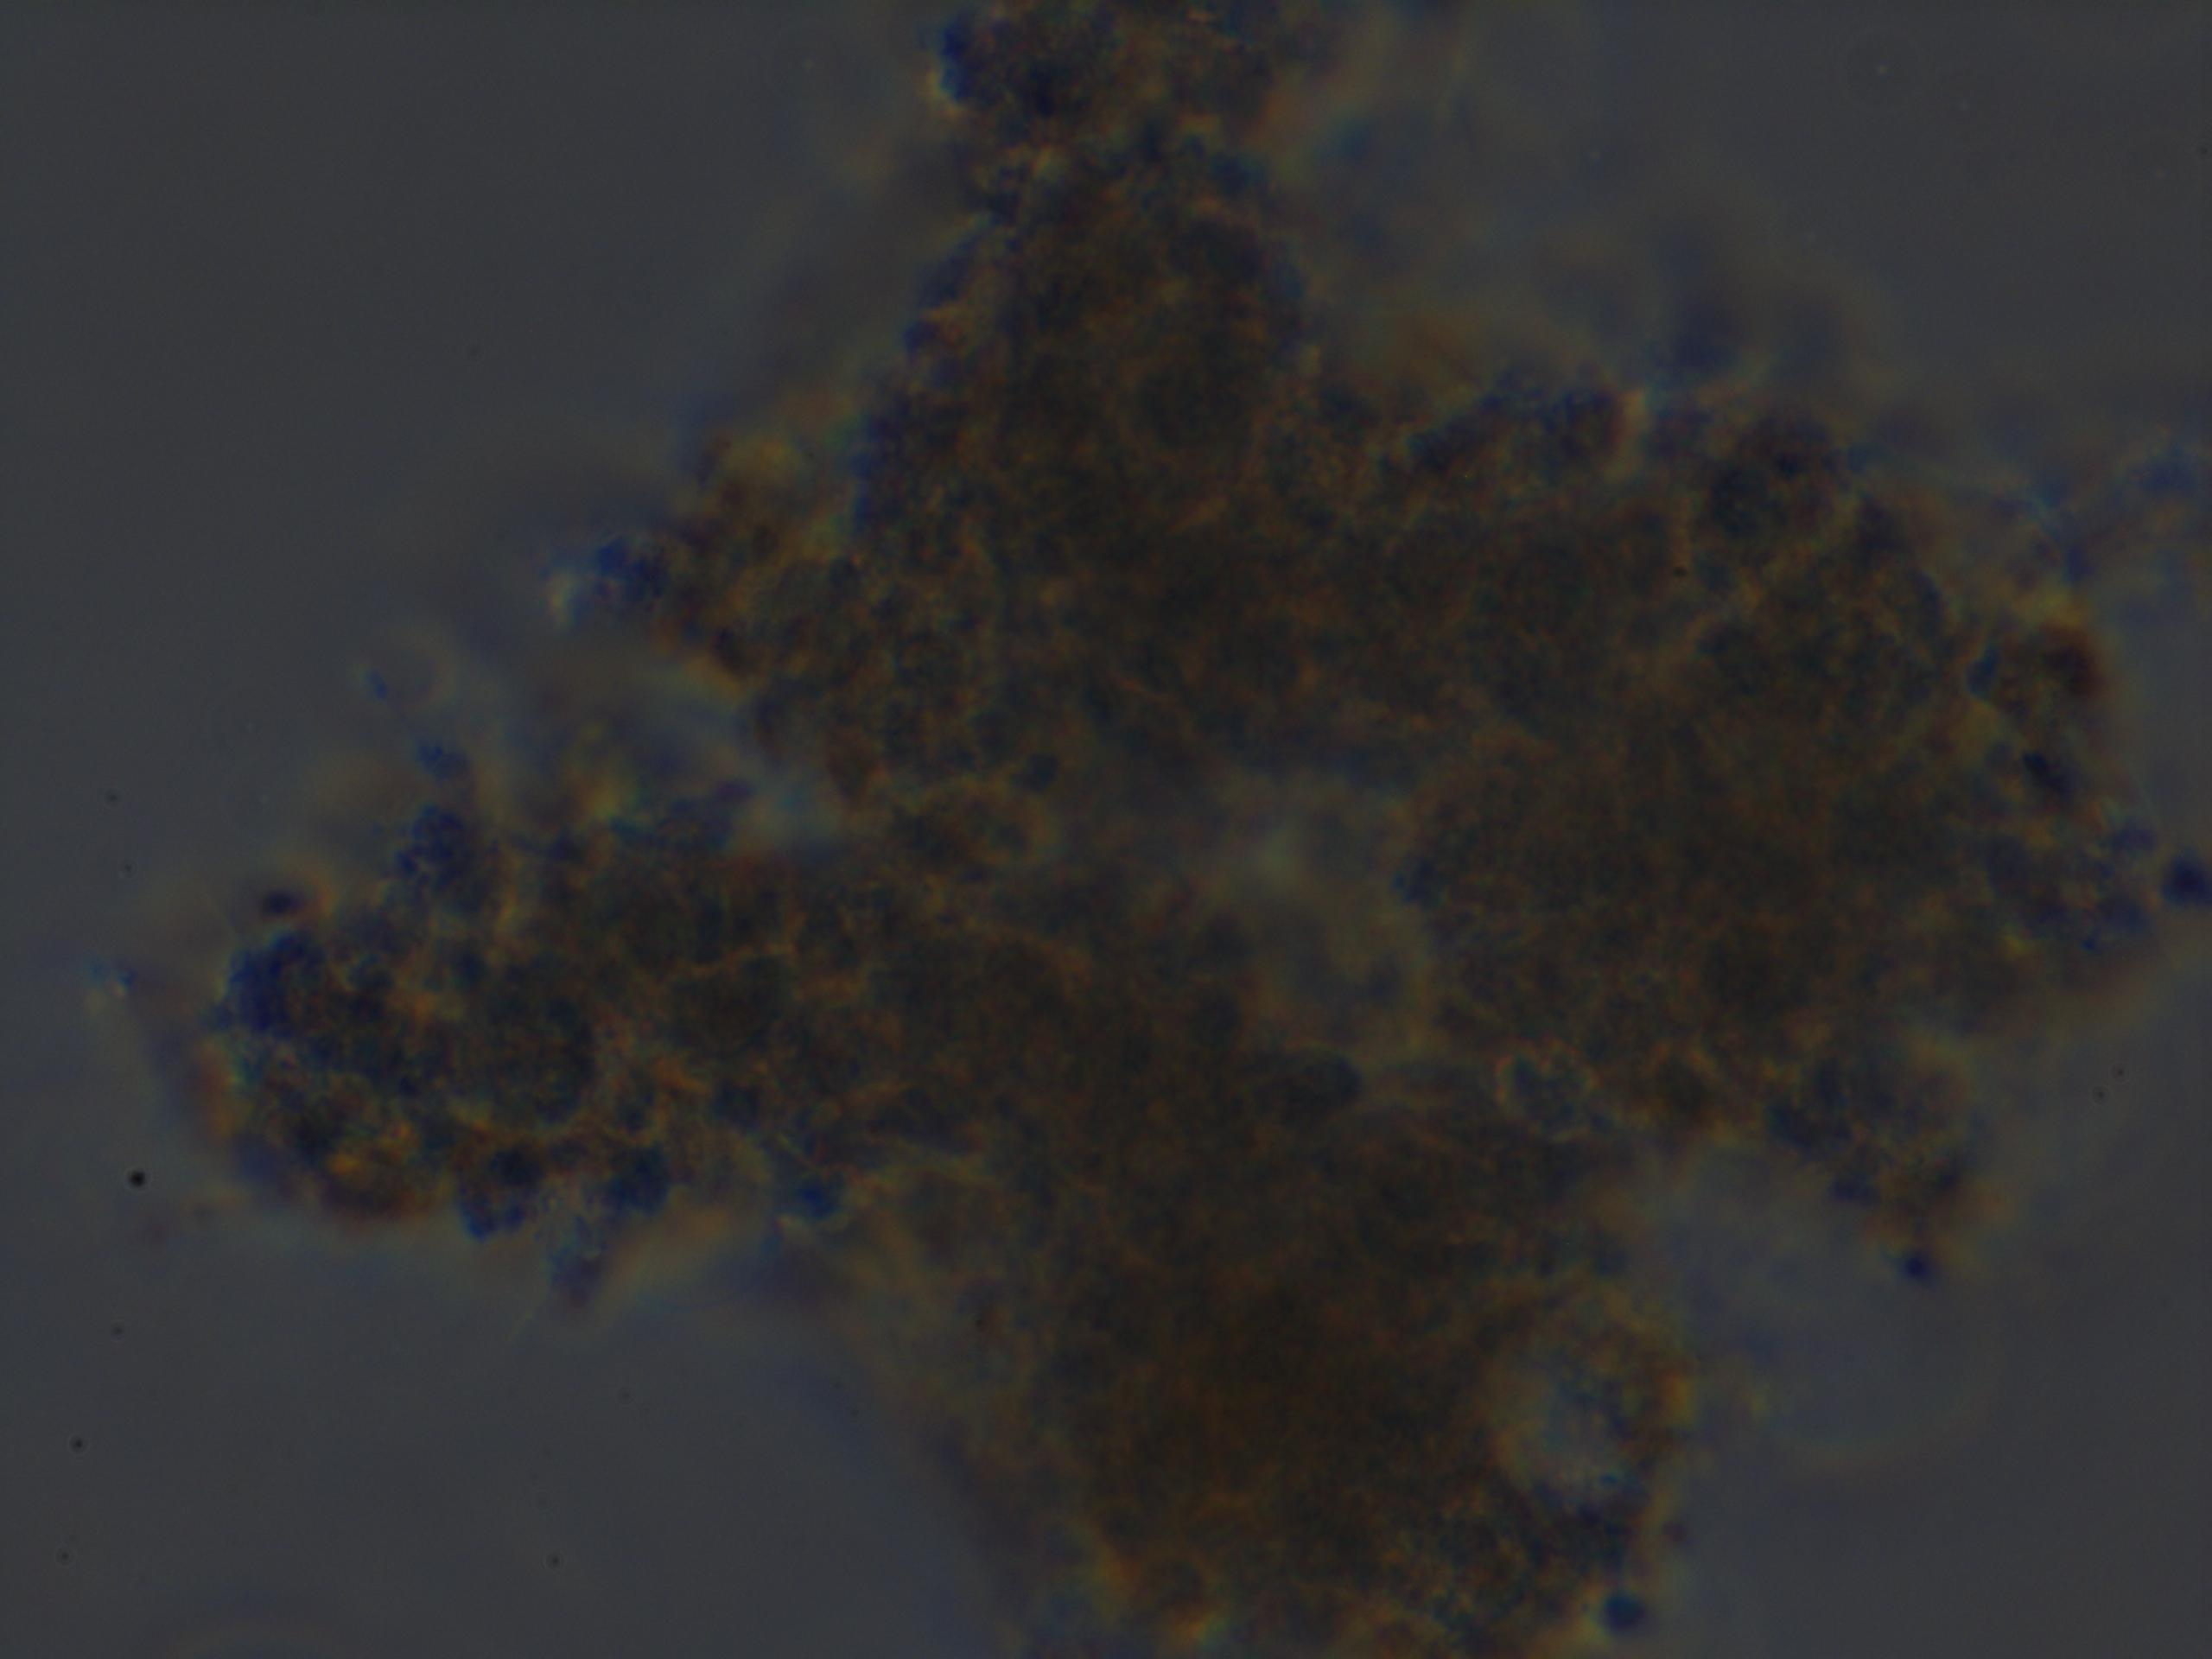open_floc: (185, 7, 2212, 1659)
